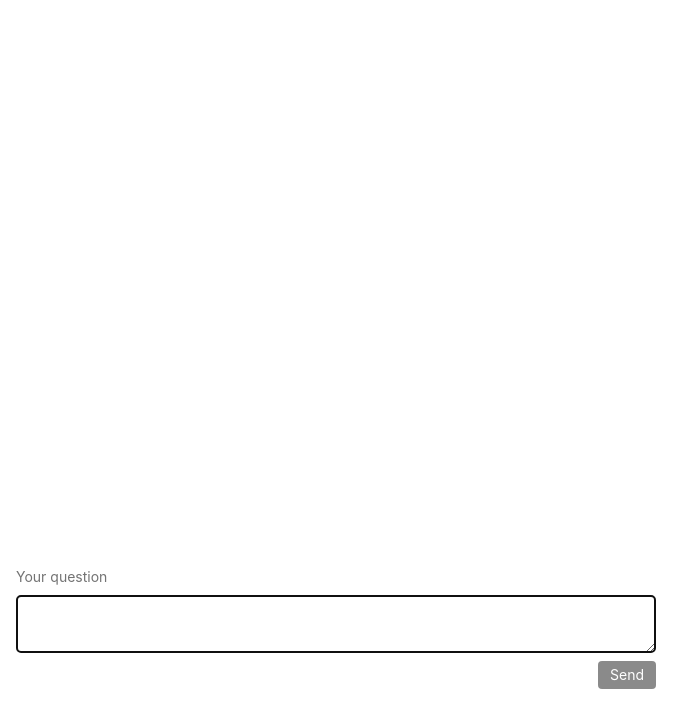
Test: Chat (jsdom) › citations › turns markers into links to the matching sources entries
The width and height of the screenshot is (673, 705).
Type "q" into the text box labelled "Your question" at (336, 624), box [16,595,656,653]
Then press Enter
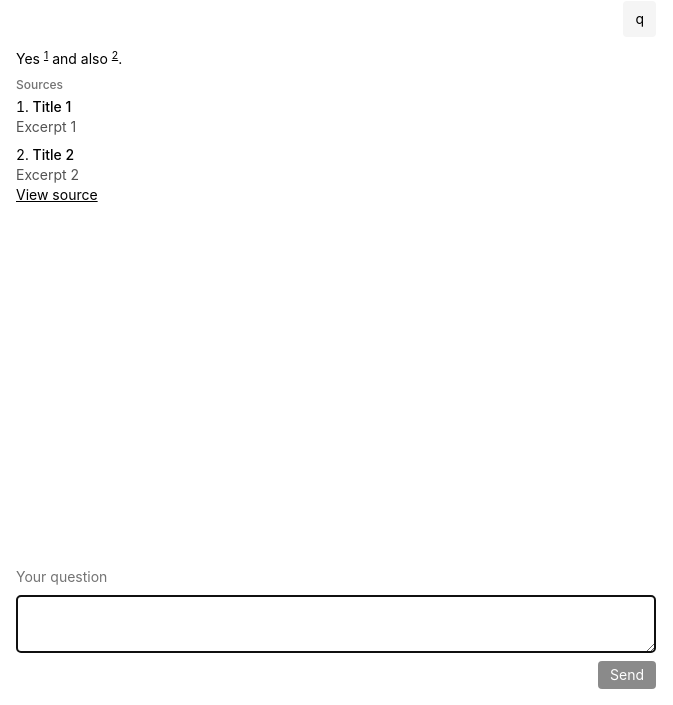
Now the list item with id "src-m2-1" is shown, box [16,98,76,135]
Now the list item with id "src-m2-2" is shown, box [16,146,98,203]
